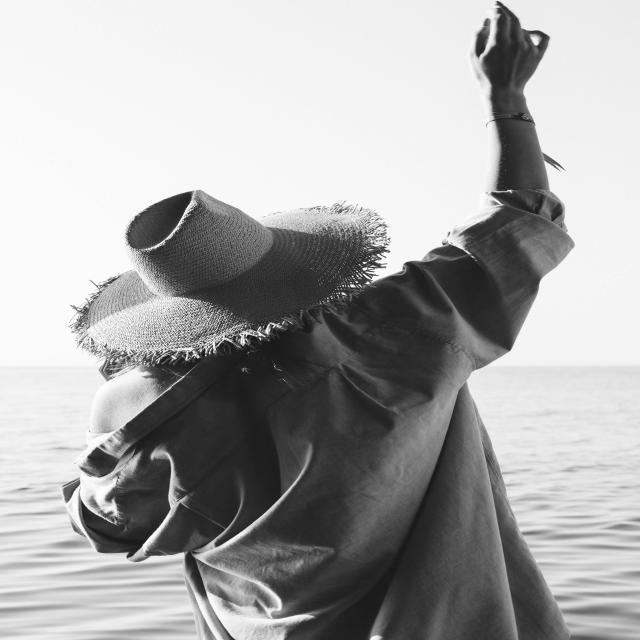no_hard_hat: (106, 186, 546, 640), (80, 188, 381, 360)
